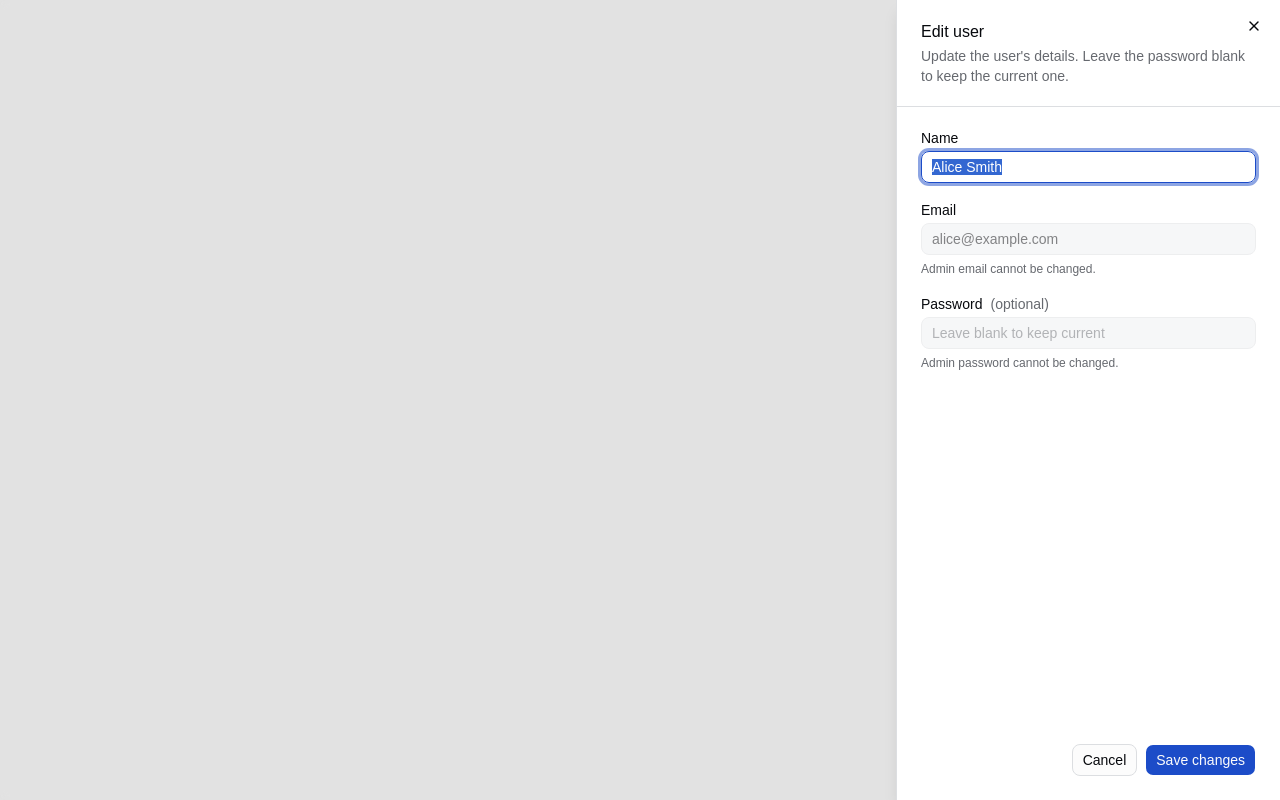
Test: UserDialog › edit mode (user provided) › validation › shows a required error when name is cleared
Clear the field labelled "Name" at {"x": 1088, "y": 167}, box x1=921 y1=151 x2=1256 y2=183
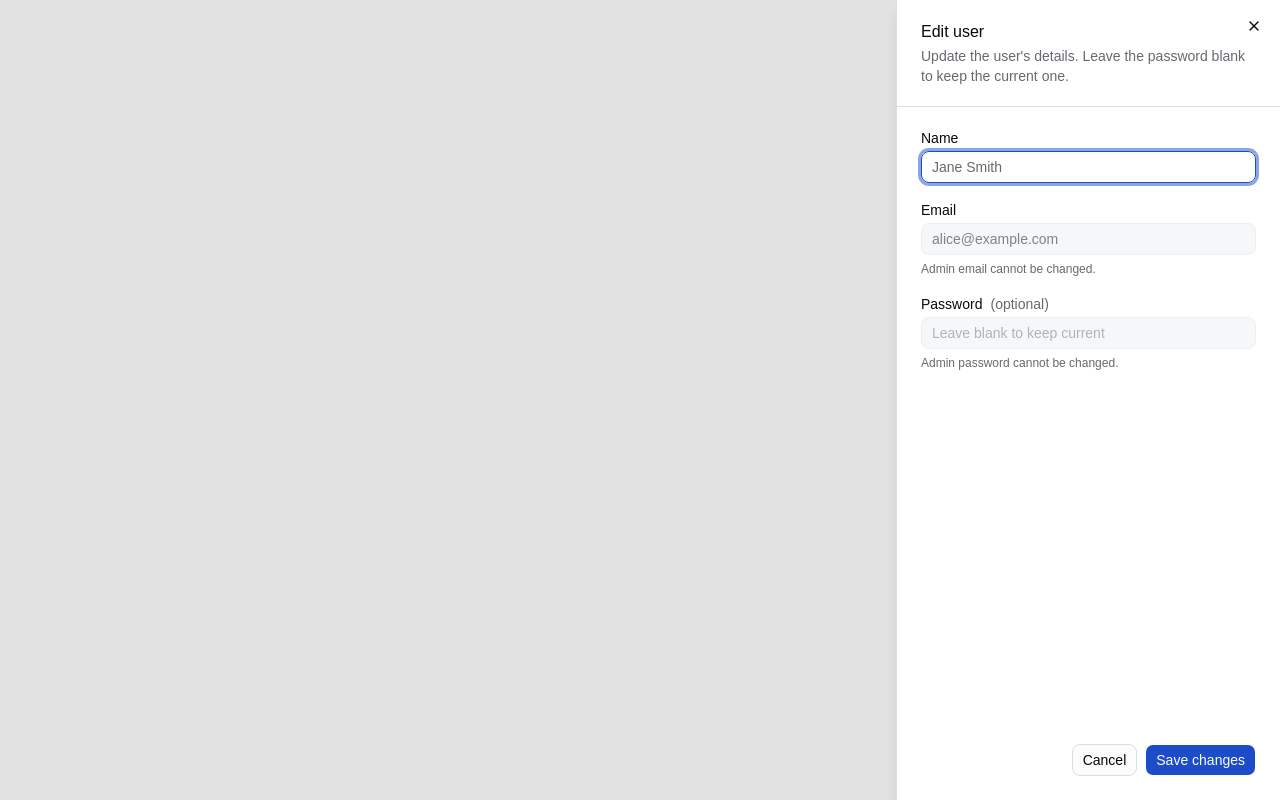
Click the button "Save changes" at {"x": 1201, "y": 760}, box x1=1145 y1=744 x2=1256 y2=776
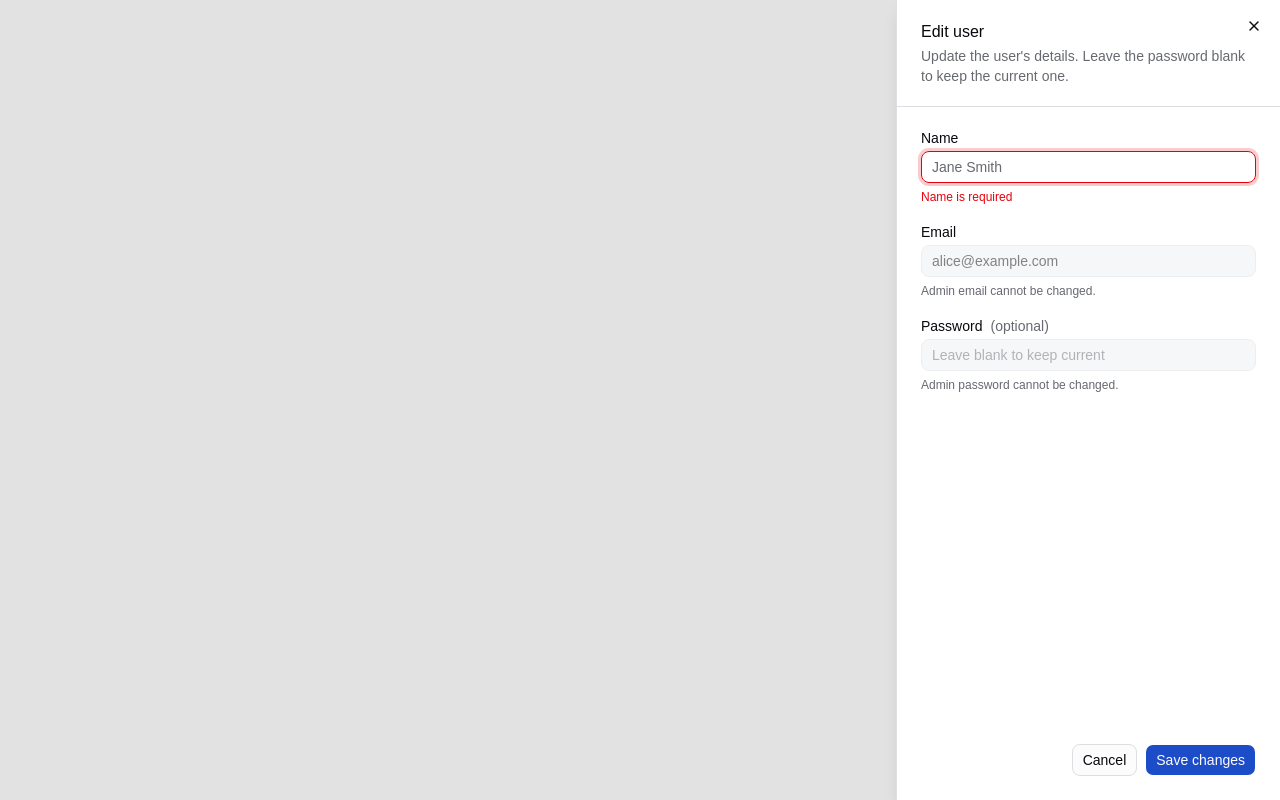
Result: the text "Name is required" is shown at x1=921 y1=190 x2=1012 y2=204
